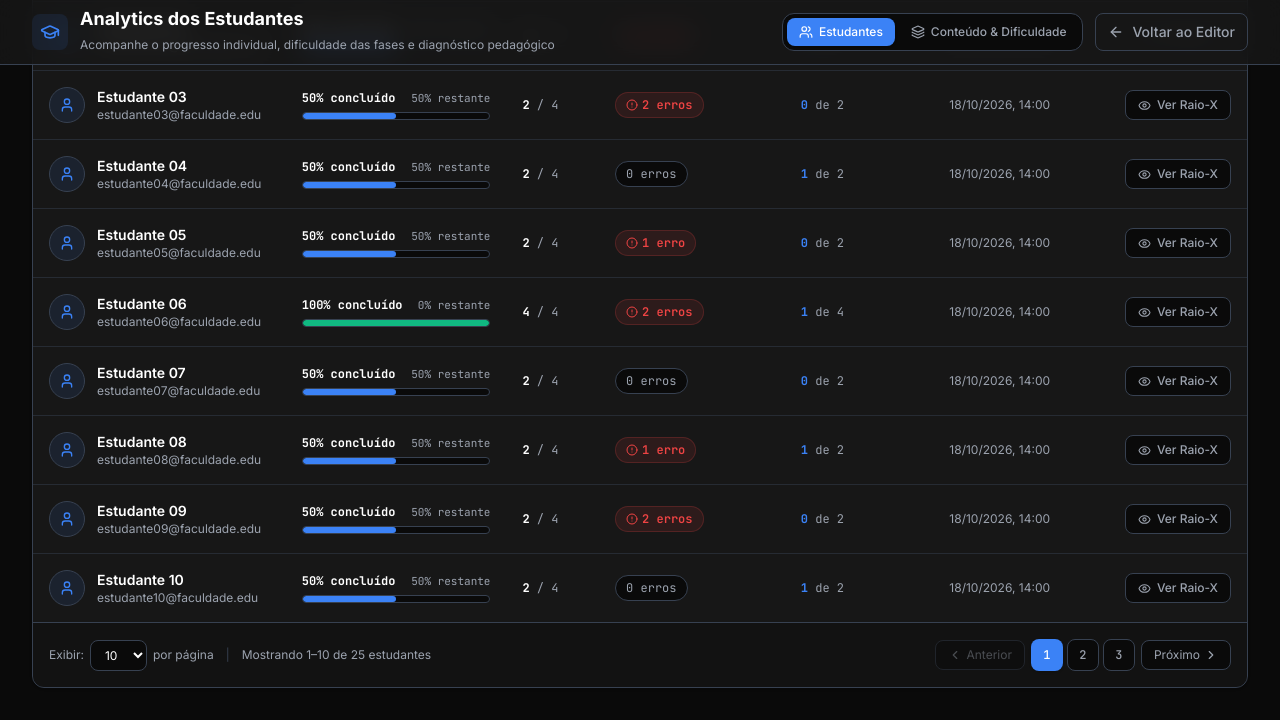
Scenario: StudentAnalytics Dashboard - Paginação e Performance (SPEC-009 v2.10.0) › deve permitir alterar a quantidade de itens por página usando o seletor (ex: 25 por página)
(page scrolled)
// Alterar para 25 por página
Select "25" in the dropdown named "Itens por página" at (118, 655), box x1=90 y1=640 x2=147 y2=671
(page scrolled)
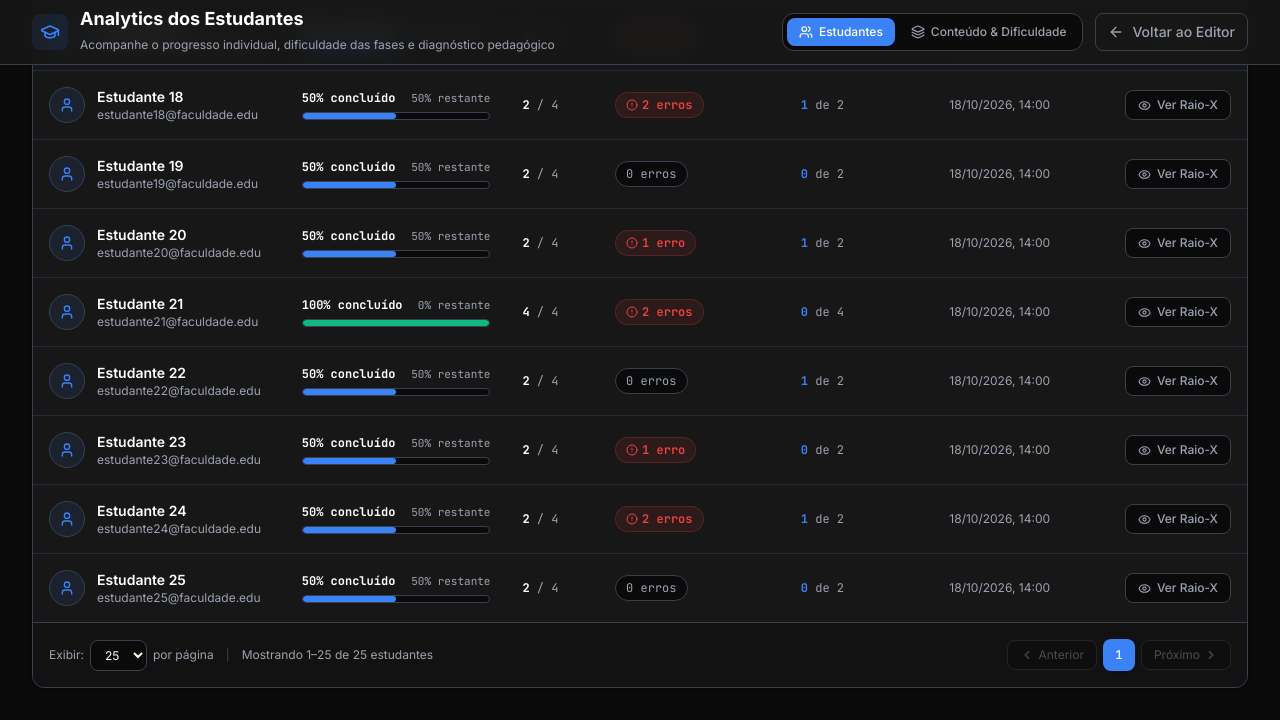
Now the text "Estudante 25" is shown, box x1=97 y1=571 x2=186 y2=588
Now the text "Mostrando 1–25 de 25 estudantes" is shown, box x1=242 y1=647 x2=433 y2=663
Now the button "Próximo" is disabled, box x1=1141 y1=640 x2=1231 y2=670
